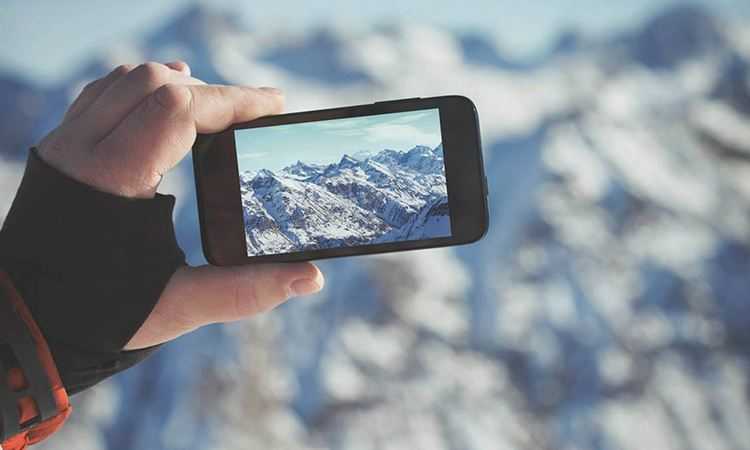taking photos: (16, 55, 497, 352)
